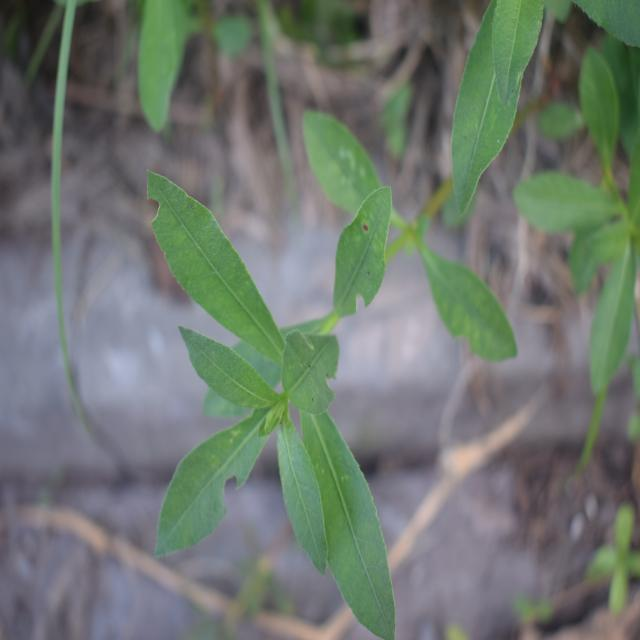Alligatorweed: (114, 100, 425, 630)
